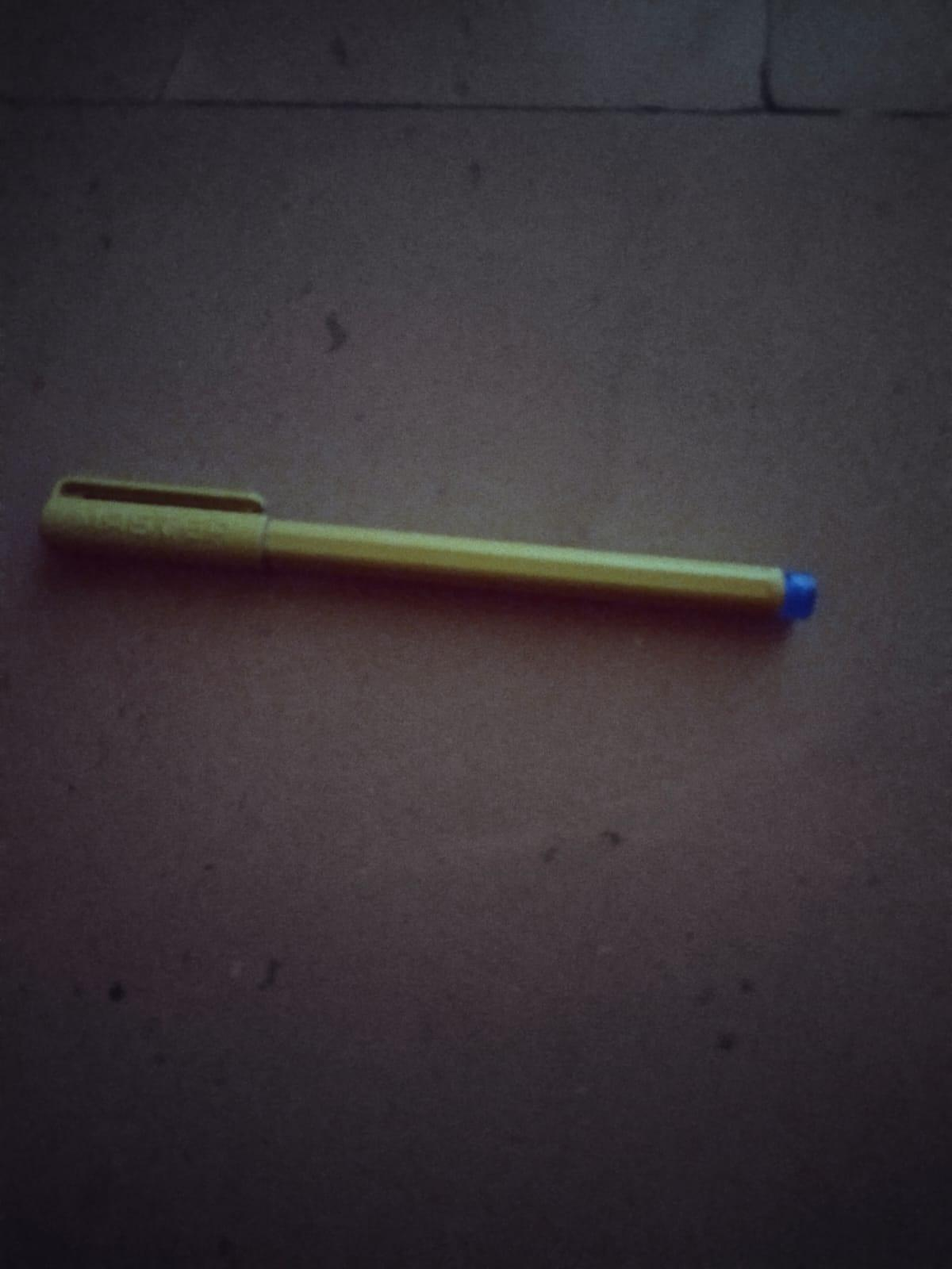marker: (42, 477, 816, 621)
